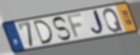7: (17, 21, 35, 49)
D: (32, 19, 54, 46)
F: (66, 12, 86, 41)
J: (90, 9, 106, 37)
Q: (102, 7, 125, 34)
S: (52, 16, 72, 42)
